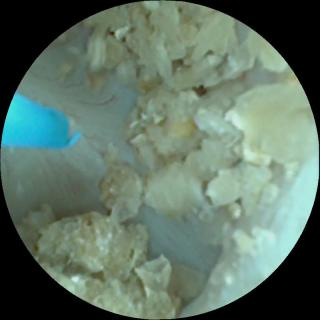fiber: (5, 94, 80, 148)
stone: (83, 4, 313, 220), (18, 167, 207, 317), (234, 226, 274, 256)
